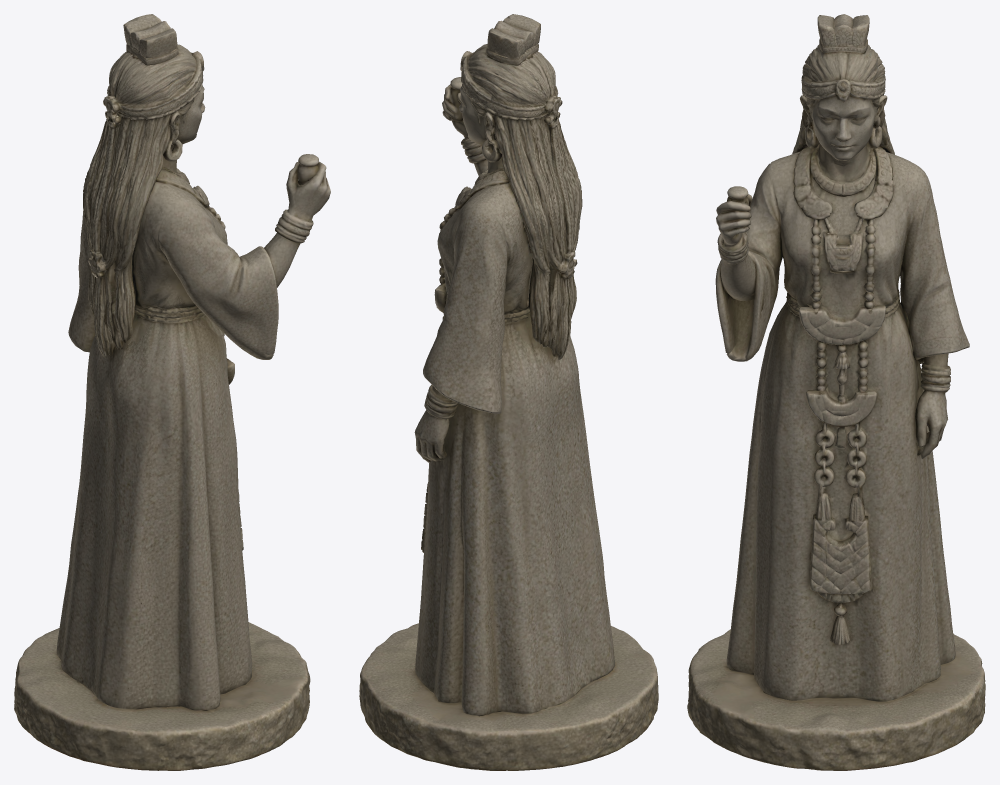
The model's file is ancient_statue_3d_model.fbx.
3 renders of one model, left to right at view 1: azimuth 30°, elevation 25°; view 2: azimuth 150°, elevation 25°; view 3: azimuth 270°, elevation 25°, orthographic.
Visible parts, largest first — view 1: tripo_node_58560d19; view 2: tripo_node_58560d19; view 3: tripo_node_58560d19.
Part boxes in pixels (box(x1,y1,x2,y2)): tripo_node_58560d19: box(14, 14, 330, 770); tripo_node_58560d19: box(359, 14, 658, 770); tripo_node_58560d19: box(687, 14, 985, 770).
Size of the model in its own units: 0.3826 by 0.9782 by 0.3848.
